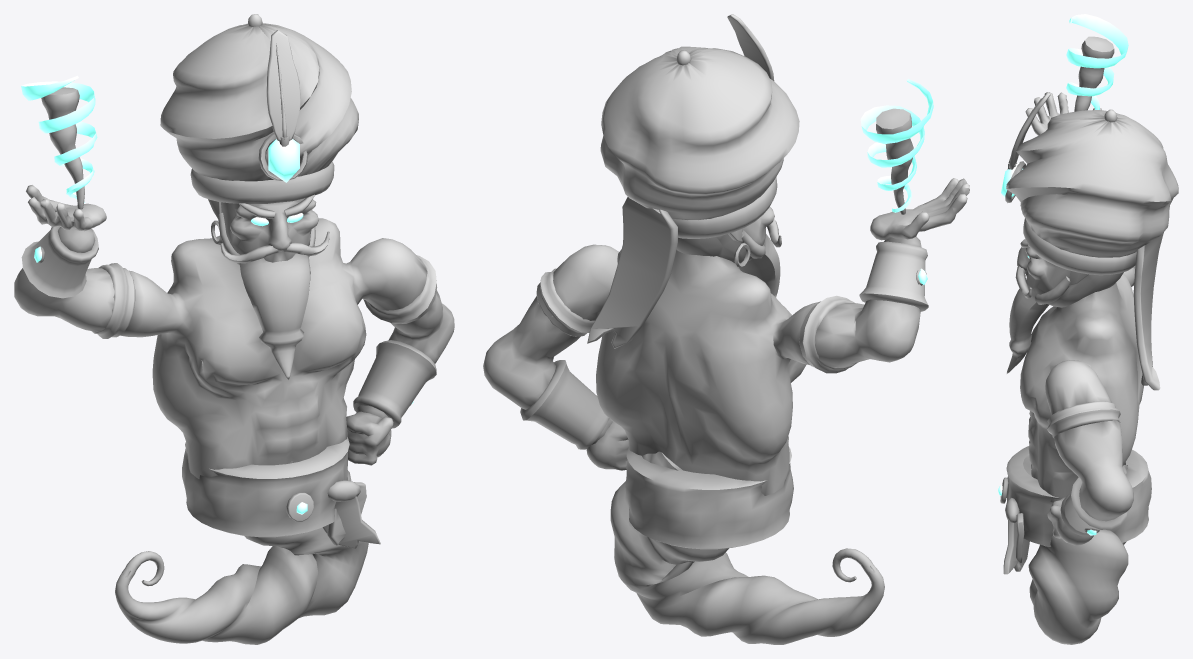
The model's file is djinni.glb.
3 renders of one model, left to right at view 1: azimuth 30°, elevation 25°; view 2: azimuth 150°, elevation 25°; view 3: azimuth 270°, elevation 25°, orthographic. The views are drawn at different scales.
Visible parts, largest first — view 1: Djinni; view 2: Djinni; view 3: Djinni.
Boxes of the visible parts, x1,y1,x2,y2 form: Djinni: [14, 14, 454, 644]; Djinni: [483, 14, 969, 644]; Djinni: [998, 14, 1178, 644].
Bounding box in the file's own units: 0.6162 × 0.803 × 0.2461.
